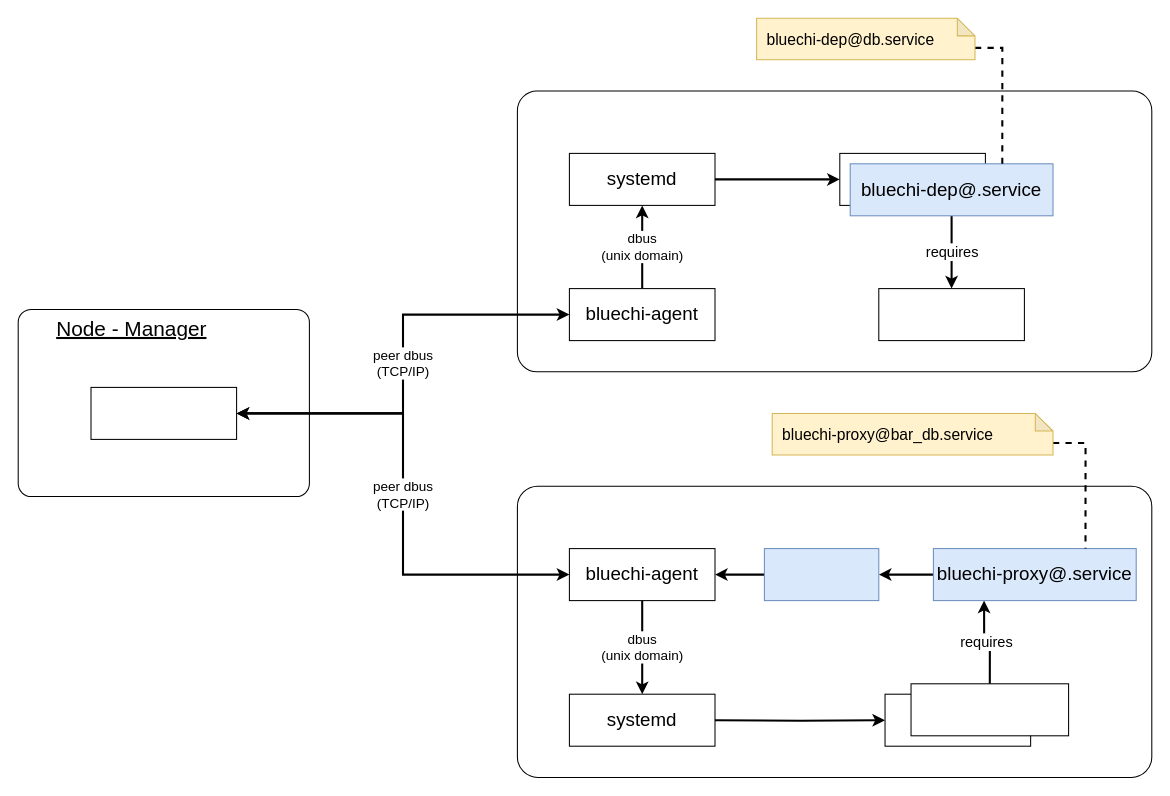
The diagram is 1170 pixels wide and 796 high, and some of its shapes have lost their labels. Each missing label, with the box of its shape:
bluechi: (90, 386, 237, 439)
bluechi-proxy: (763, 548, 879, 601)
db.service: (878, 288, 1024, 341)
Managed Node: bar: (516, 90, 1152, 372)
Managed Node: foo: (516, 485, 1152, 777)
needs-db.service: (910, 683, 1069, 736)
